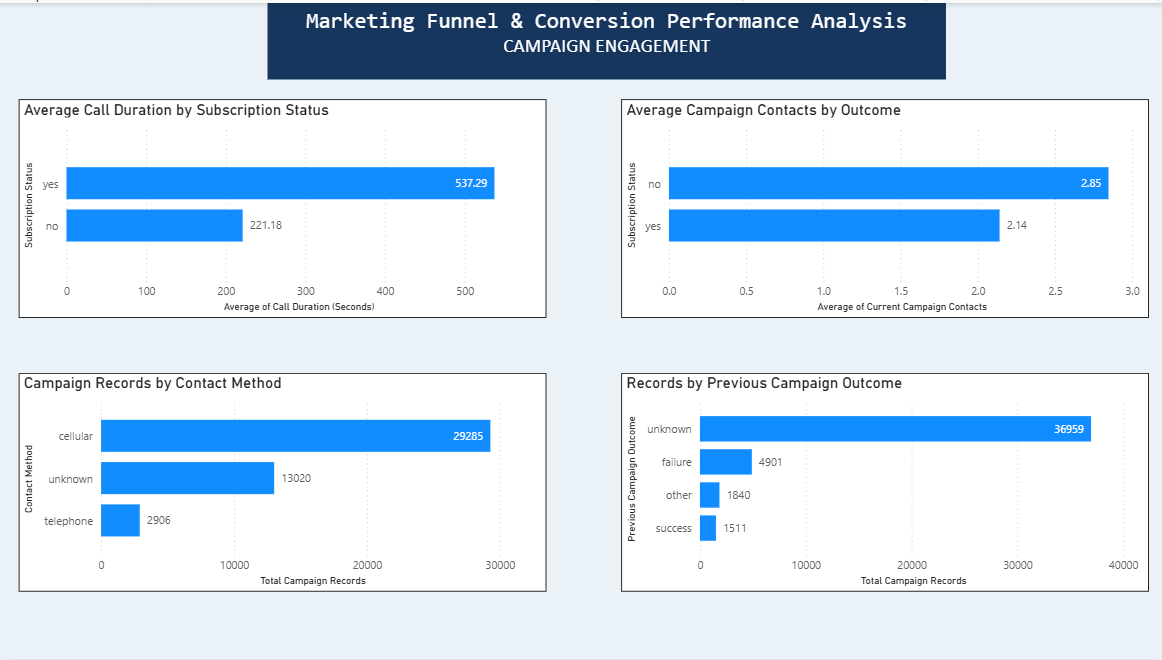

The dashboard page shown, as its layout file describes it:
{"tool":"powerbi","page":{"name":"Campaign Engagement","canvas":[1280,720],"ordinal":2},"visuals":[{"type":"textbox","box":[293.7,0,745.1,83.7],"z":0},{"type":"clusteredBarChart","title":"Average Call Duration by Subscription Status","fields":{"Y":["Avg(bank_marketing_cleaned.Call Duration (Seconds))"],"Category":["bank_marketing_cleaned.Subscription Status"]},"box":[20.6,105.7,579.1,240.1],"z":1},{"type":"clusteredBarChart","title":"Average Campaign Contacts by Outcome","fields":{"Category":["bank_marketing_cleaned.Subscription Status"],"Y":["Avg(bank_marketing_cleaned.Current Campaign Contacts)"]},"box":[682,105.7,579.1,240.1],"z":2},{"type":"clusteredBarChart","title":"Campaign Records by Contact Method","fields":{"Category":["bank_marketing_cleaned.Contact Method"],"Y":["bank_marketing_cleaned.Total Campaign Records"]},"box":[20.6,406.2,579.1,240.1],"z":3},{"type":"clusteredBarChart","title":"Records by Previous Campaign Outcome","fields":{"Y":["bank_marketing_cleaned.Total Campaign Records"],"Category":["bank_marketing_cleaned.Previous Campaign Outcome"]},"box":[682,406.2,579.1,240.1],"z":4}]}

Visuals, with their boxes in screenshot pixels (x1, y1, x2, y2), scaled from the page's 1280x720 canvas onto the 1162x660 screenshot:
textbox: [x1=267, y1=0, x2=943, y2=77]
"Average Call Duration by Subscription Status" clusteredBarChart: [x1=19, y1=97, x2=544, y2=317]
"Average Campaign Contacts by Outcome" clusteredBarChart: [x1=619, y1=97, x2=1145, y2=317]
"Campaign Records by Contact Method" clusteredBarChart: [x1=19, y1=372, x2=544, y2=592]
"Records by Previous Campaign Outcome" clusteredBarChart: [x1=619, y1=372, x2=1145, y2=592]
